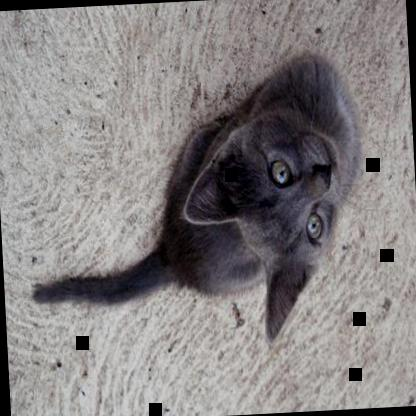cat: (21, 50, 374, 359)
